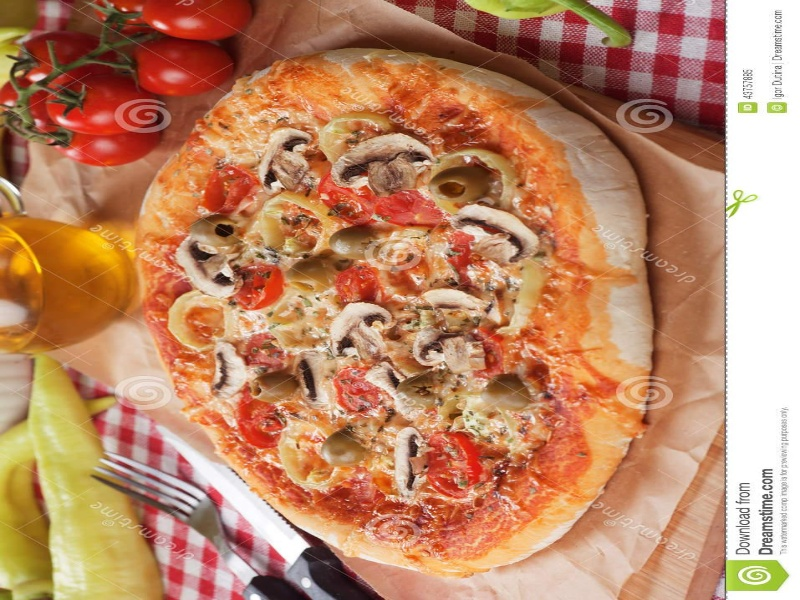champignon: (442, 197, 546, 268), (328, 130, 438, 196), (171, 235, 253, 303), (254, 123, 317, 203), (325, 299, 402, 363), (388, 425, 432, 506)
olive: (278, 255, 345, 301), (428, 163, 495, 208), (475, 371, 538, 418), (179, 211, 248, 252), (330, 222, 385, 270), (245, 366, 305, 408), (317, 428, 371, 472)
